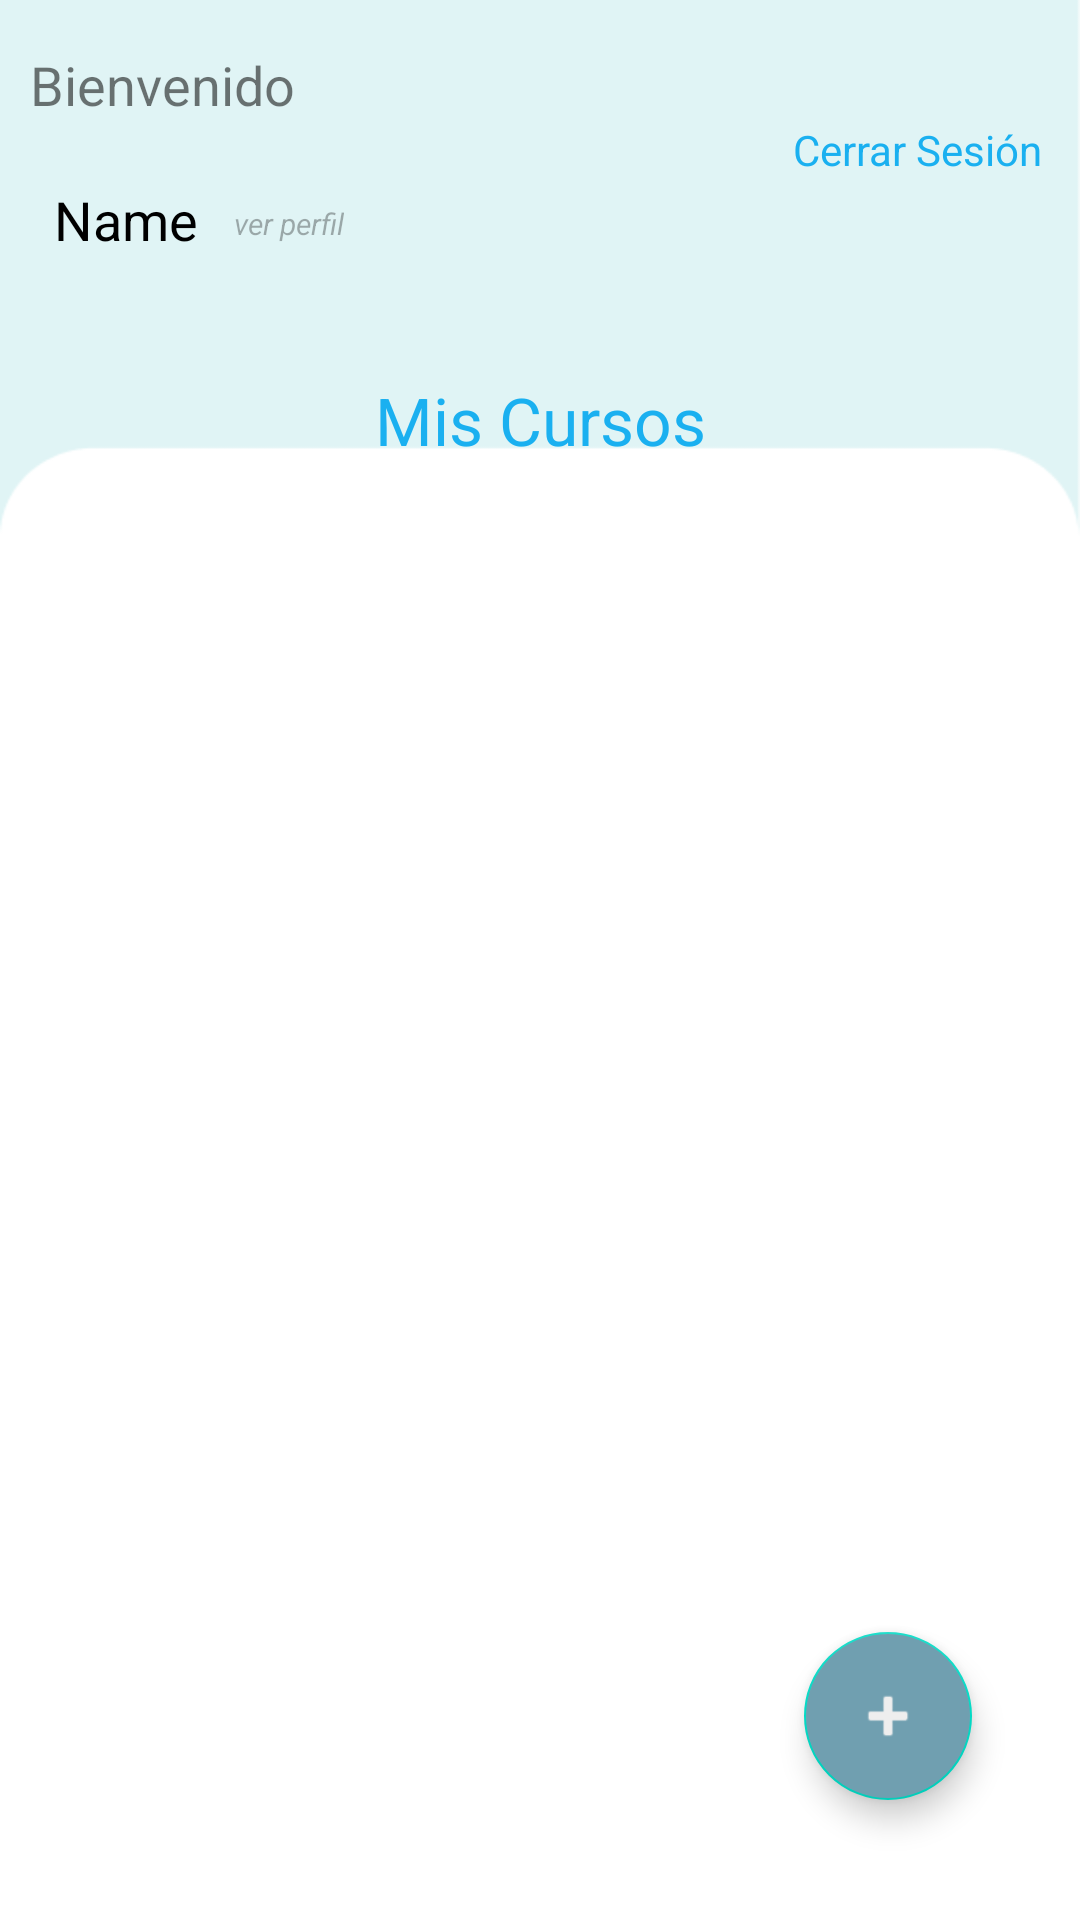

Icon click points for this 1080px x 1920px phone screenshot, format (x=x, y=y):
add: (x=888, y=1716)
